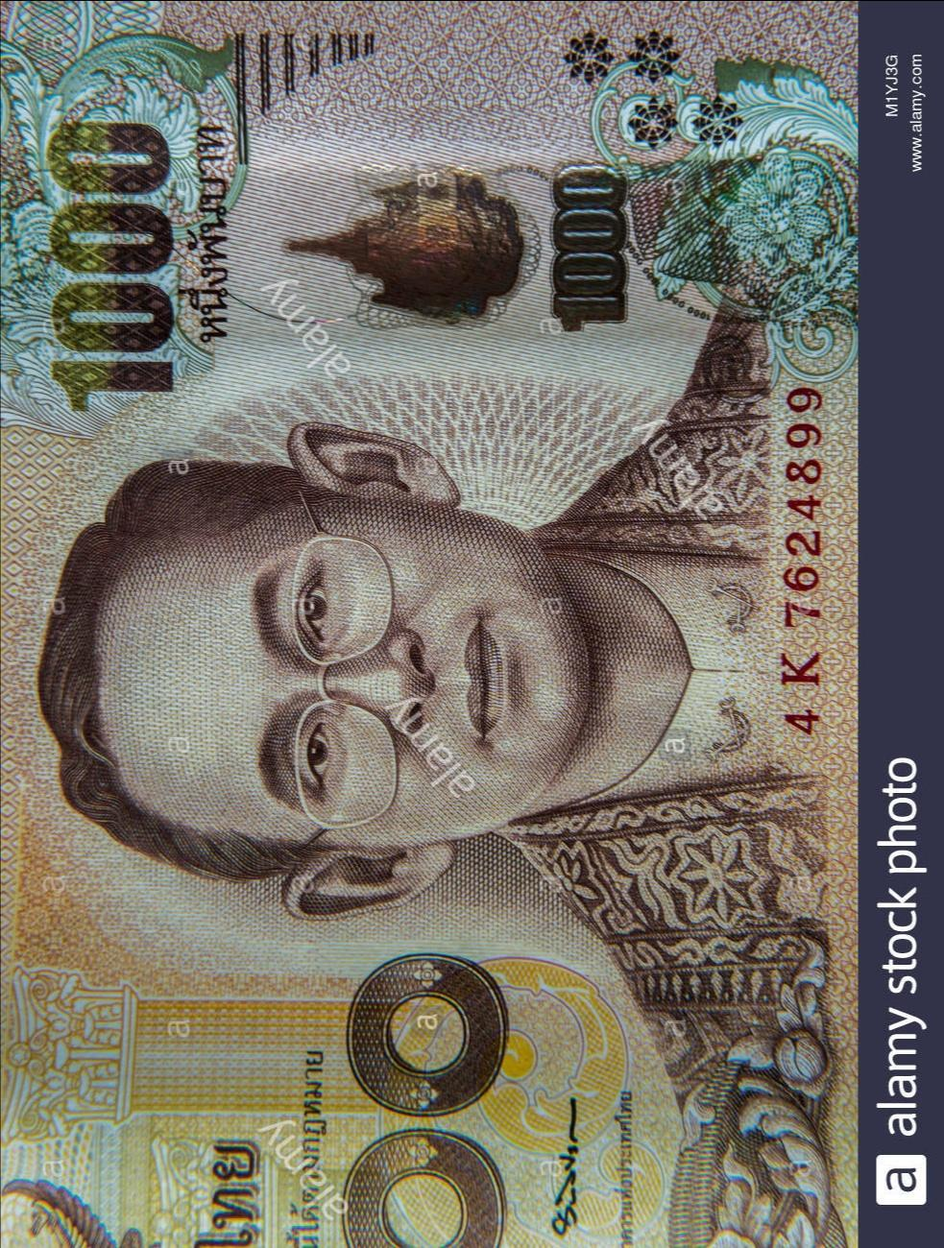1000BahtTai: (0, 0, 860, 1248)
